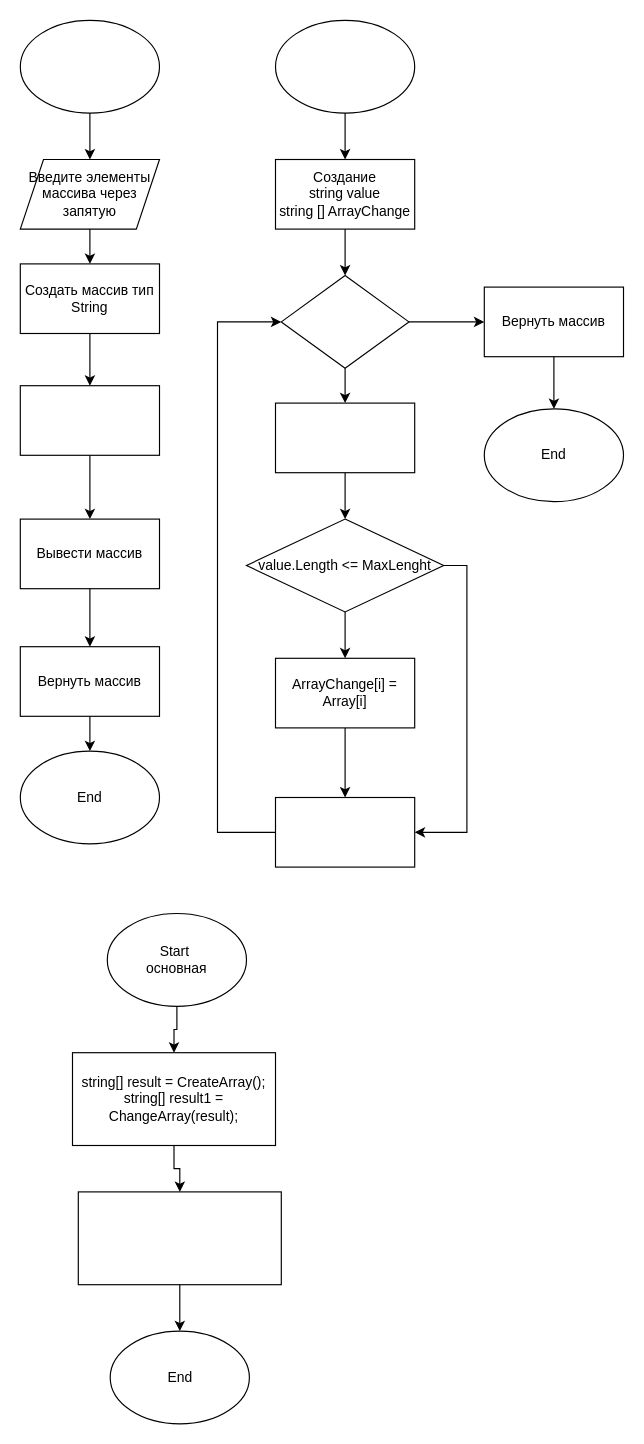
Image size: 644x1444. Some labels were removed from this diagram. Each missing label, with the centre of its shape:
i ++: point (344, 831)
i < Array.Length: point (344, 321)
start ChangeArray: point (344, 66)
Start Create Array: point (89, 66)
value = Array[i];: point (344, 437)
ВВвести массив через запятую: point (89, 420)
Вывести новый массив: point (179, 1238)
